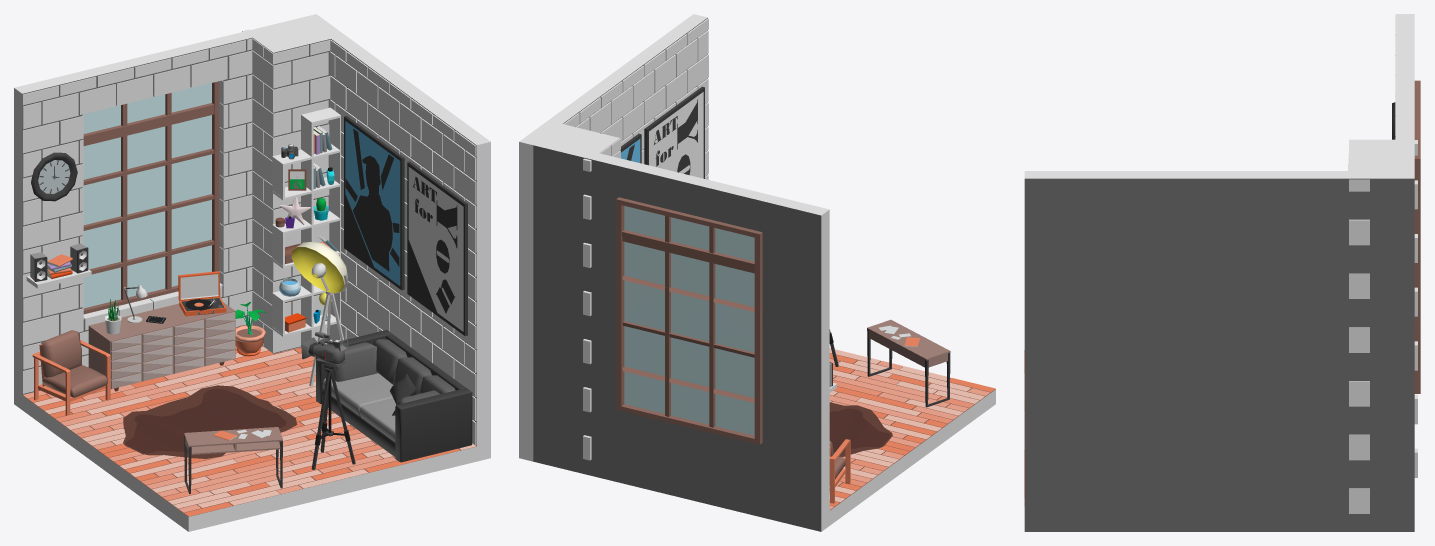
Rendered from room_9.glb.
3 renders of one model, left to right at view 1: azimuth 30°, elevation 25°; view 2: azimuth 150°, elevation 25°; view 3: azimuth 270°, elevation 25°, orthographic. The views are drawn at different scales.
Parts seen in each view (by area): view 1: window_032.001, floor_003.002, sofa_005.001, Walls_009.001, shelf_031.001, Walls_046.002, picture_036.002, picture_043.001, shelf_059.001, carpet_015.001, Walls_046.004, lounge_chair_020.001 (+44 smaller); view 2: window_032.001, Walls_046.001, Walls_046.004, Walls_046.006, floor_003.002, Walls_046.002, Walls_046.005, Walls_009.001, picture_036.002, office_table_029.002, carpet_015.001, Walls_046.003 (+3 smaller); view 3: Walls_046.002, window_032.001, Walls_046.003, Walls_046.005, Walls_046.001, Walls_046.004, Walls_005.272, Walls_005.302, Walls_005.209, Walls_005.280, Walls_005.287, Walls_005.295.
Boxes of the visible parts, x1,y1,x2,y2 form: window_032.001: [82, 81, 218, 314]; floor_003.002: [23, 345, 476, 516]; sofa_005.001: [316, 330, 472, 462]; Walls_009.001: [22, 346, 476, 531]; shelf_031.001: [88, 302, 235, 391]; Walls_046.002: [302, 14, 490, 461]; picture_036.002: [407, 161, 467, 335]; picture_043.001: [344, 116, 404, 290]; shelf_059.001: [272, 107, 341, 346]; carpet_015.001: [123, 385, 297, 458]; Walls_046.004: [14, 73, 82, 409]; lounge_chair_020.001: [32, 330, 110, 415]; window_032.001: [616, 197, 762, 444]; Walls_046.001: [533, 139, 627, 482]; Walls_046.004: [761, 194, 829, 531]; Walls_046.006: [619, 410, 760, 516]; floor_003.002: [829, 348, 995, 509]; Walls_046.002: [519, 14, 707, 461]; Walls_046.005: [619, 160, 768, 231]; Walls_009.001: [829, 353, 995, 525]; picture_036.002: [644, 86, 704, 178]; office_table_029.002: [867, 319, 950, 407]; carpet_015.001: [829, 402, 892, 456]; Walls_046.003: [542, 124, 619, 156]; Walls_046.002: [1024, 171, 1414, 531]; window_032.001: [1414, 80, 1420, 393]; Walls_046.003: [1349, 139, 1395, 170]; Walls_046.005: [1396, 47, 1414, 123]; Walls_046.001: [1396, 123, 1414, 170]; Walls_046.004: [1396, 14, 1414, 46]; Walls_005.272: [1349, 434, 1369, 460]; Walls_005.302: [1349, 219, 1369, 245]; Walls_005.209: [1349, 488, 1369, 513]; Walls_005.280: [1349, 381, 1369, 406]; Walls_005.287: [1349, 327, 1369, 352]; Walls_005.295: [1349, 273, 1369, 298].
Bounding box in the file's own units: 4.21 × 4.2 × 4.27.
1 material, 1 textured.
